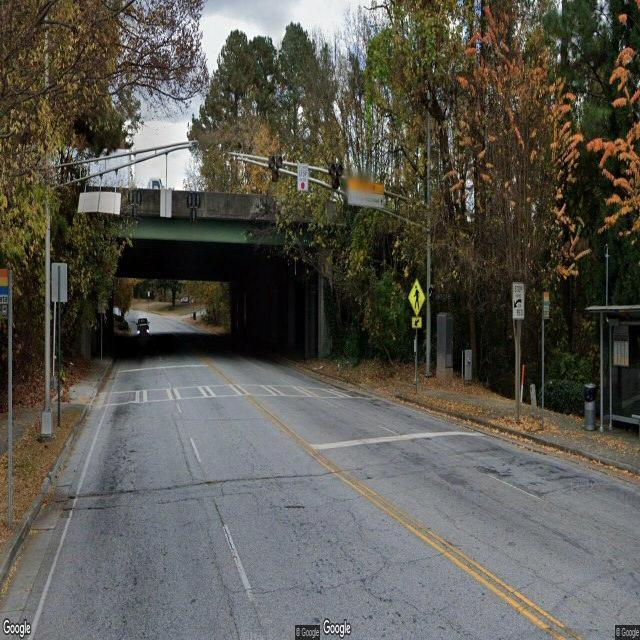seating: (631, 406, 640, 440)
shelter: (585, 303, 640, 446)
trash_can: (584, 384, 598, 434)
